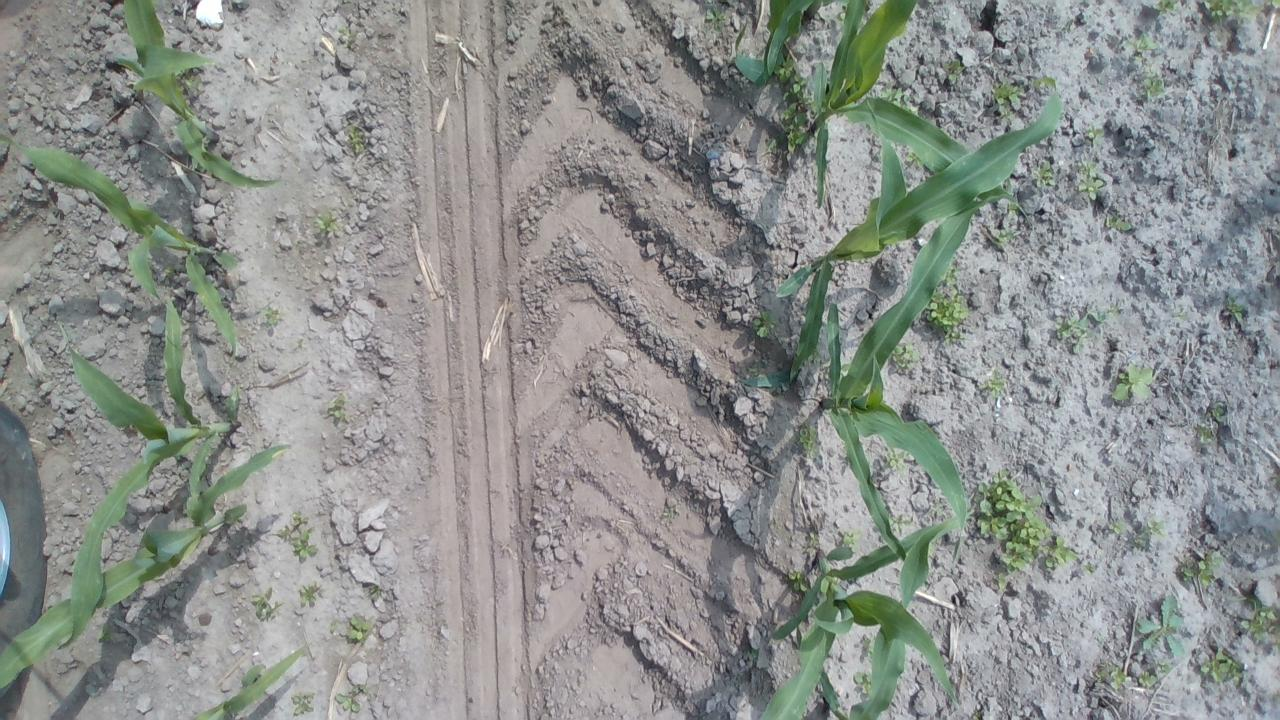Maize: (738, 76, 1064, 388), (819, 193, 1030, 560), (0, 443, 292, 691), (56, 294, 242, 650), (0, 133, 242, 359), (806, 0, 1033, 220), (757, 515, 959, 720), (118, 0, 284, 187), (822, 520, 952, 719), (192, 643, 310, 720), (732, 0, 822, 86)
Weeds: (976, 468, 1076, 590), (1050, 303, 1122, 359), (776, 50, 811, 151), (1132, 594, 1188, 657), (1231, 590, 1280, 639), (926, 286, 970, 340), (274, 509, 318, 560), (1196, 646, 1246, 684), (1111, 360, 1156, 402), (1178, 546, 1223, 587), (1201, 0, 1260, 24), (988, 80, 1022, 120), (1194, 402, 1225, 445), (250, 582, 284, 620), (1075, 158, 1105, 200), (332, 684, 374, 714), (1133, 517, 1169, 549), (1134, 661, 1172, 687), (324, 391, 352, 426), (794, 423, 822, 458), (1028, 160, 1056, 192), (1140, 68, 1168, 100), (1122, 31, 1158, 55), (297, 580, 332, 604), (1092, 666, 1128, 688), (290, 690, 318, 718), (703, 2, 727, 34), (752, 310, 778, 338), (892, 342, 919, 368), (884, 447, 910, 474), (839, 527, 864, 554), (1223, 294, 1246, 322), (346, 122, 366, 154), (980, 369, 1006, 393), (314, 212, 340, 236), (1102, 212, 1132, 232), (1086, 122, 1107, 150), (345, 616, 370, 639), (889, 511, 912, 536), (939, 59, 964, 82), (784, 572, 810, 594), (994, 226, 1016, 250), (335, 26, 358, 48), (852, 669, 872, 694), (804, 530, 822, 556), (260, 306, 283, 326), (98, 620, 115, 644), (1105, 518, 1128, 535), (905, 154, 923, 173), (930, 497, 946, 518), (880, 84, 901, 100), (857, 636, 875, 654), (762, 135, 779, 154), (1157, 0, 1180, 14), (164, 263, 180, 282), (1170, 306, 1187, 322), (945, 266, 958, 286), (367, 582, 382, 598), (1082, 559, 1098, 574), (660, 506, 679, 518), (1006, 202, 1020, 218), (748, 360, 761, 377), (746, 649, 760, 664), (1264, 0, 1280, 11), (972, 708, 981, 720), (329, 619, 336, 633)
